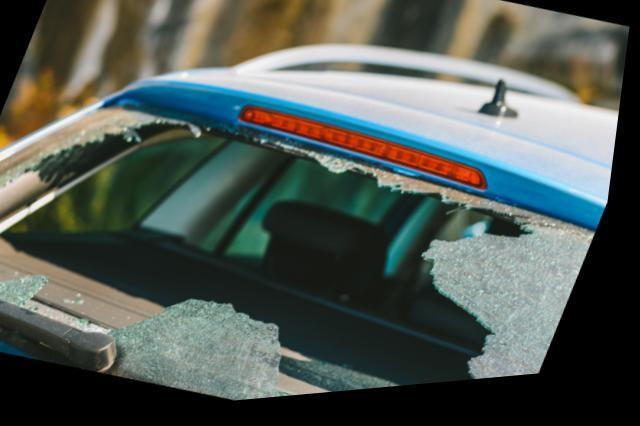glass shatter: (0, 101, 603, 406)
